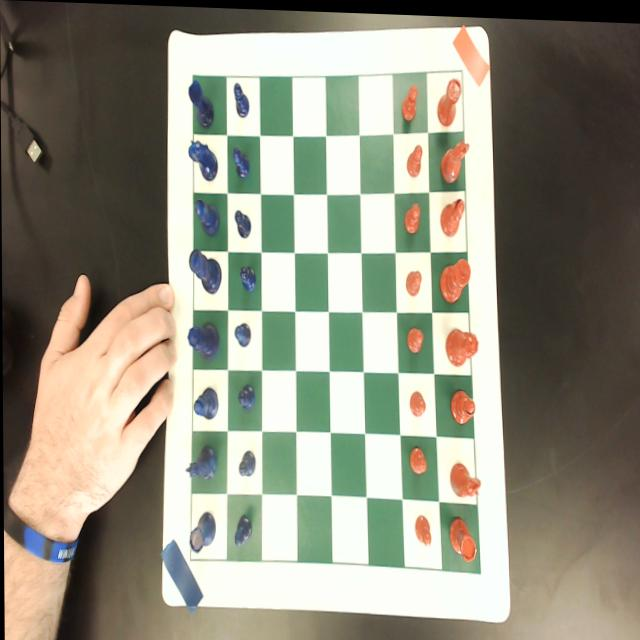B: (191, 383, 218, 419), (195, 198, 219, 235)
K: (188, 247, 221, 294)
N: (186, 137, 219, 180), (183, 441, 217, 480)
P: (232, 511, 253, 545), (234, 81, 250, 118), (232, 146, 250, 178), (238, 262, 257, 292), (237, 380, 255, 411), (234, 208, 252, 237), (238, 448, 256, 476), (234, 321, 250, 346)
Q: (187, 318, 220, 359)
R: (187, 506, 216, 554), (188, 78, 214, 127)
b: (439, 194, 465, 236), (450, 386, 475, 424)
cb: (190, 68, 479, 570)
k: (439, 254, 471, 302)
n: (438, 136, 472, 183), (449, 458, 480, 494)
p: (410, 507, 435, 548), (397, 83, 421, 121), (401, 197, 422, 238), (405, 385, 427, 421), (404, 140, 425, 176), (401, 266, 423, 295), (405, 446, 426, 475), (407, 322, 423, 354)
q: (445, 325, 479, 364)
r: (448, 512, 477, 560), (437, 73, 462, 123)
